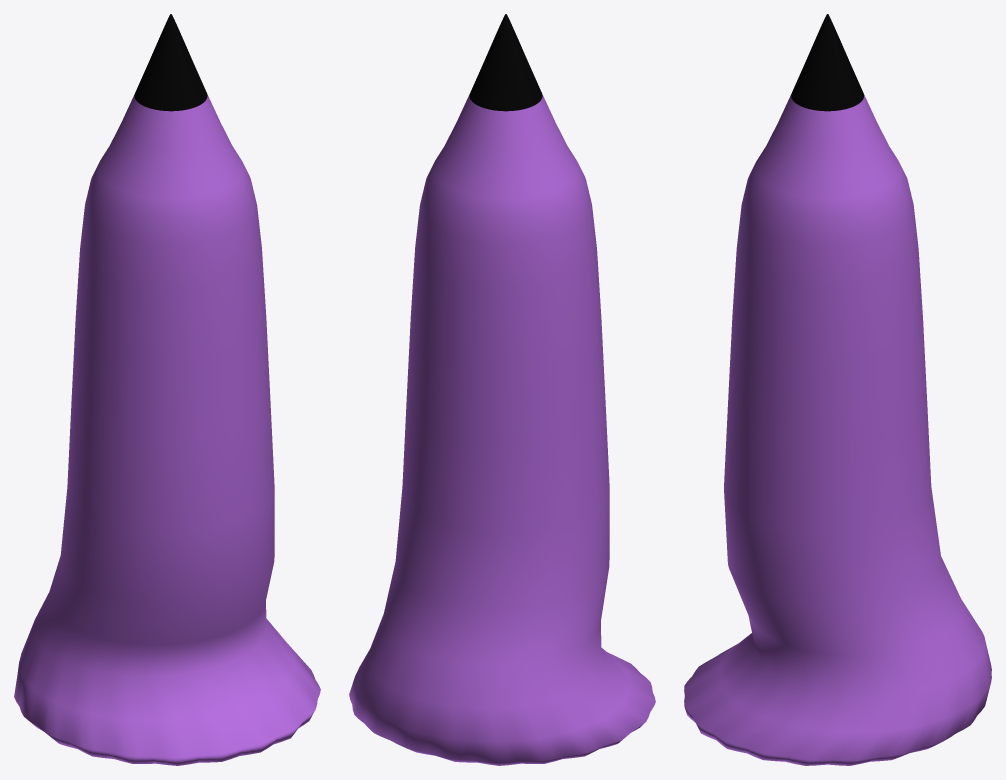
Rendered from mor.fbx.
3 views of the same model, side by side, from view 1: azimuth 30°, elevation 25°; view 2: azimuth 150°, elevation 25°; view 3: azimuth 270°, elevation 25° (orthographic).
Visible parts, largest first — view 1: pCylinder1; view 2: pCylinder1; view 3: pCylinder1.
Part boxes in pixels (bbox=[...]): pCylinder1: bbox=[14, 14, 320, 765]; pCylinder1: bbox=[349, 14, 655, 765]; pCylinder1: bbox=[684, 14, 991, 765].
Size of the model in its own units: 4.2 by 10.58 by 4.24.
